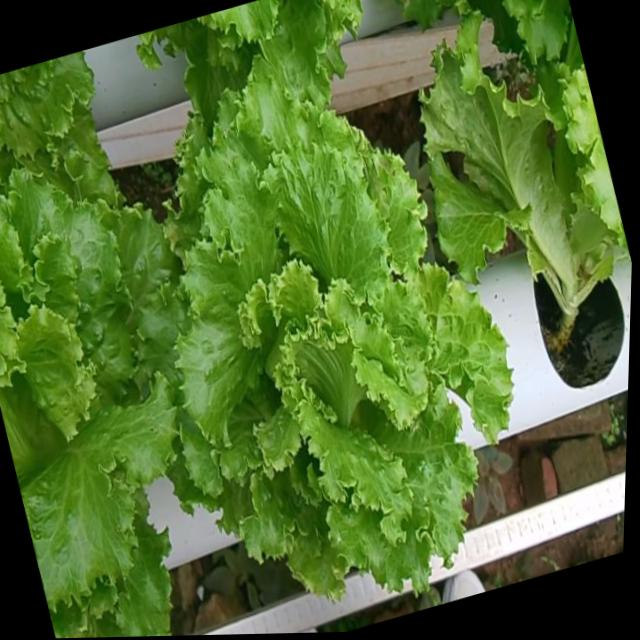Mature: (164, 80, 512, 596), (160, 93, 508, 609), (0, 183, 184, 627), (0, 172, 182, 616)
